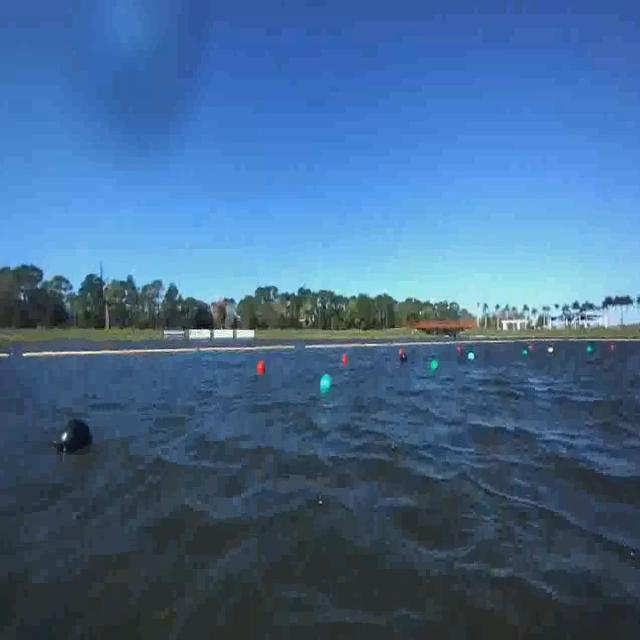black-buoy: (44, 394, 104, 467)
green-buoy: (320, 375, 333, 392), (431, 358, 438, 368), (471, 351, 476, 362)
red-buoy: (336, 349, 356, 365), (256, 360, 266, 376)
